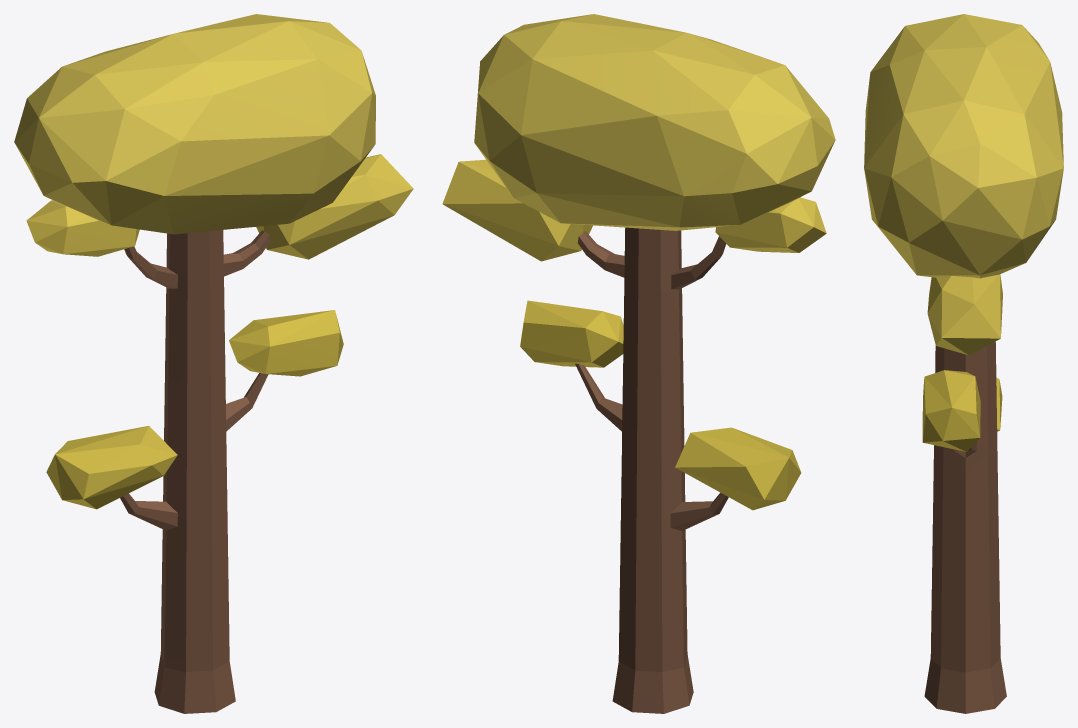
File: tropical_tree_8.fbx
The picture shows the model from 3 angles, left to right: view 1: azimuth 30°, elevation 25°; view 2: azimuth 150°, elevation 25°; view 3: azimuth 270°, elevation 25°; orthographic projection. The views are drawn at different scales.
Parts seen in each view (by area): view 1: tropical_trees_8; view 2: tropical_trees_8; view 3: tropical_trees_8.
Boxes of the visible parts, bbox=[...] form: tropical_trees_8: bbox=[14, 14, 413, 713]; tropical_trees_8: bbox=[442, 14, 835, 713]; tropical_trees_8: bbox=[864, 14, 1063, 713].
Size of the model in its own units: 491 by 827 by 232.
